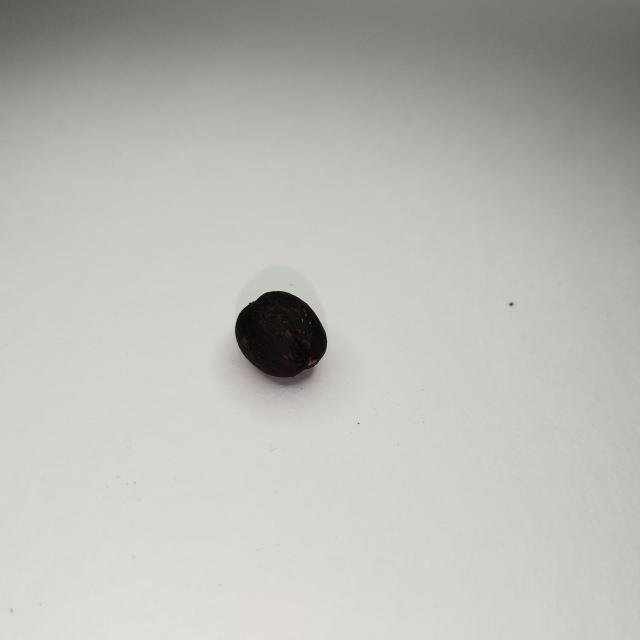Danado: (235, 292, 328, 377)
